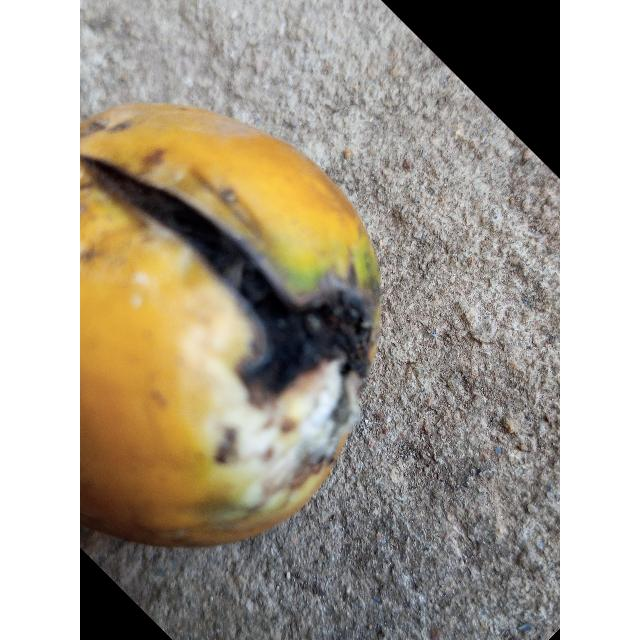damaged: (80, 104, 381, 546)
